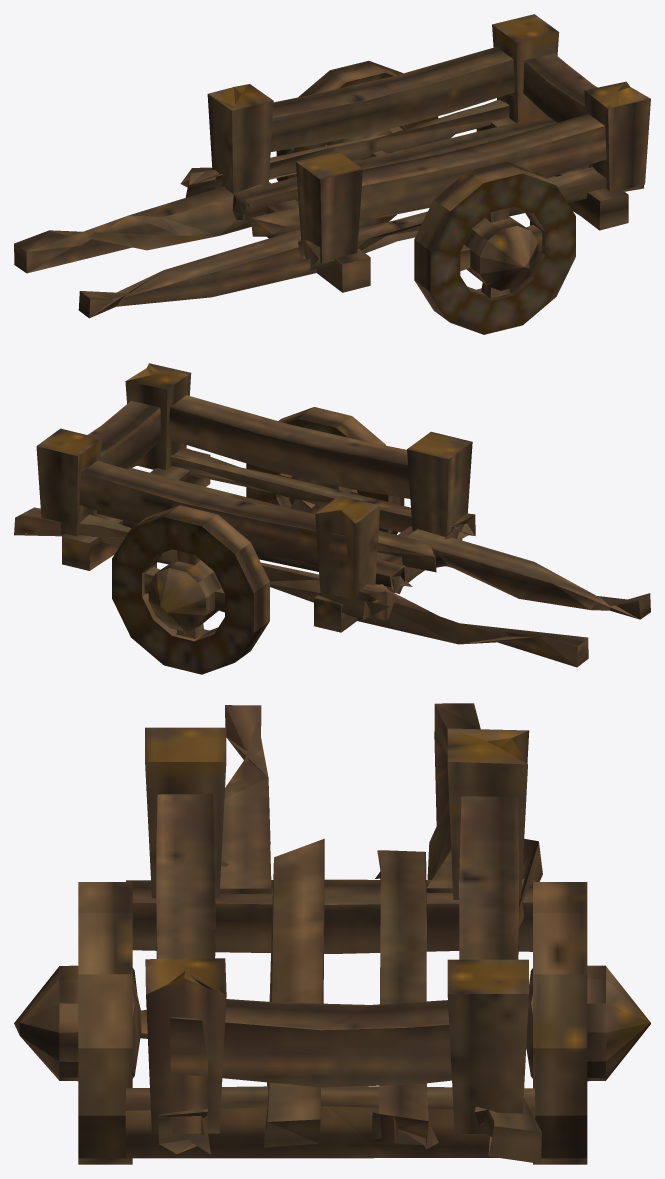
Rendered from Cart_01_Pixel.fbx.
The picture shows the model from 3 angles, top to bottom: view 1: azimuth 30°, elevation 25°; view 2: azimuth 150°, elevation 25°; view 3: azimuth 270°, elevation 25°; orthographic projection. The views are drawn at different scales.
Visible parts, largest first — view 1: Cart_01; view 2: Cart_01; view 3: Cart_01.
Boxes of the visible parts, <box> form: Cart_01: <box>14,14,650,334</box>; Cart_01: <box>14,363,650,674</box>; Cart_01: <box>14,703,650,1164</box>.
Size of the model in its own units: 307 by 95.48 by 184.
1 material, 1 textured.
